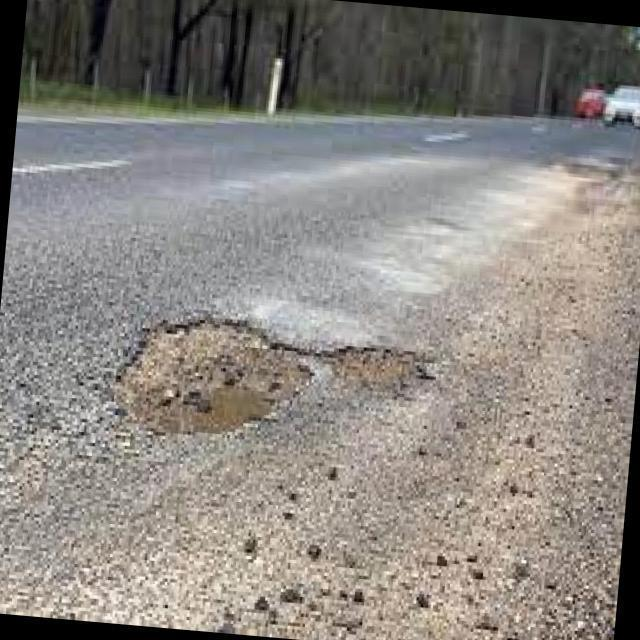pothole: (119, 320, 415, 432), (118, 324, 314, 433)
